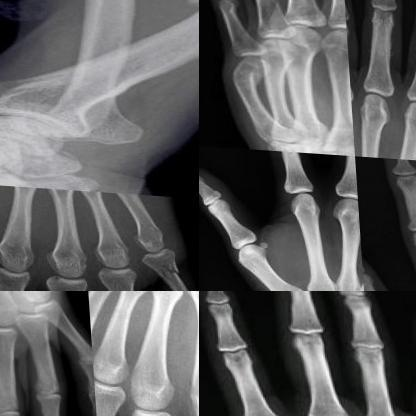fracture: (222, 58, 268, 97), (146, 251, 187, 285), (341, 276, 361, 290)
